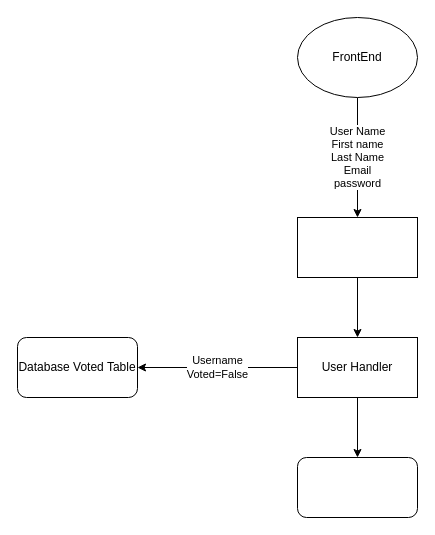
This 435x535 diagram has some shape labels left out. The shapes that lost their labels are listed below. From the top down, each one's centre as x and y in pixels, then its label:
At (x=357, y=247): "Views/Server I/O".
At (x=357, y=487): "Database User Table".
